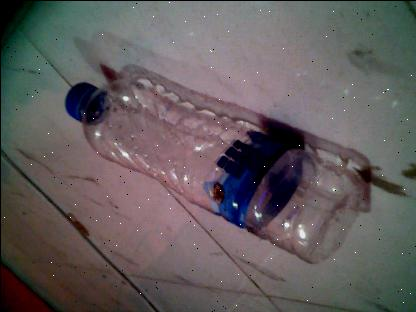Plastic Bottle: (61, 68, 372, 264)
